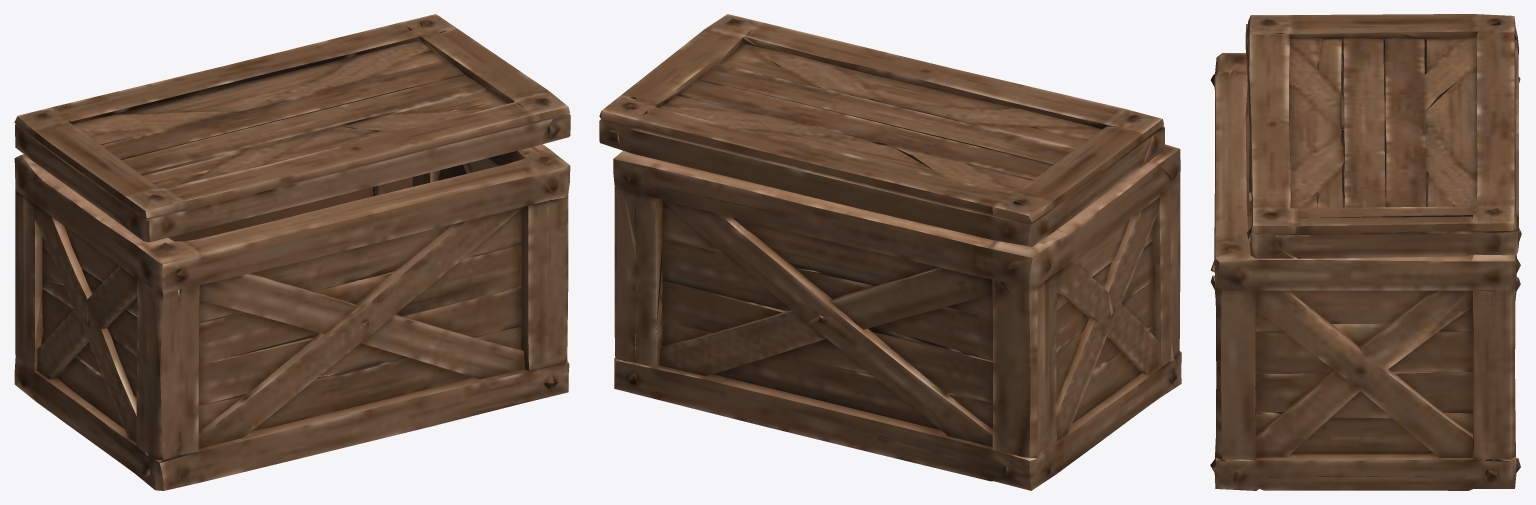
File: Crate.glb
3 views of the same model, side by side, from view 1: azimuth 30°, elevation 25°; view 2: azimuth 150°, elevation 25°; view 3: azimuth 270°, elevation 25° (orthographic). The views are drawn at different scales.
Visible parts, largest first — view 1: Crate; view 2: Crate; view 3: Crate.
Boxes of the visible parts, x1,y1,x2,y2 form: Crate: [14, 14, 570, 490]; Crate: [599, 14, 1181, 490]; Crate: [1210, 14, 1521, 490].
Bounding box in the file's own units: 1.44 × 0.8623 × 0.8748.
Materials: 1 (1 with a texture image).
